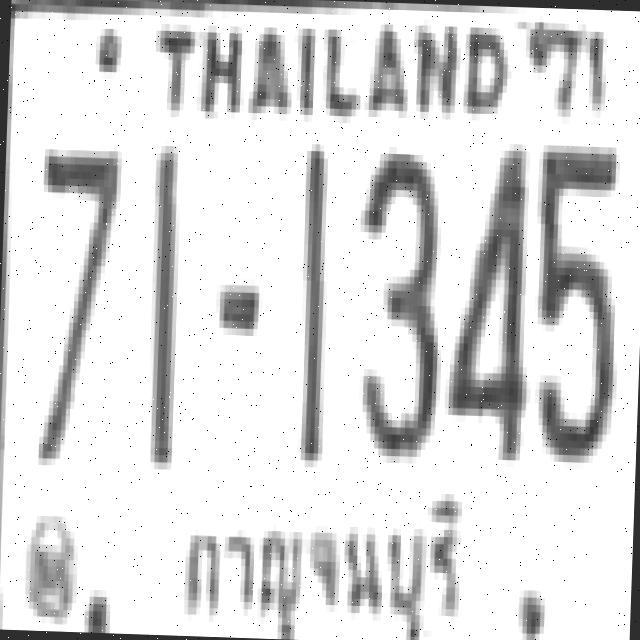1: (143, 142, 180, 466), (292, 143, 329, 453), (292, 150, 328, 460)
3: (348, 145, 440, 450)
4: (442, 141, 530, 453)
5: (528, 137, 620, 456)
7: (29, 141, 118, 460)
Kanchanaburi: (172, 482, 476, 640)
